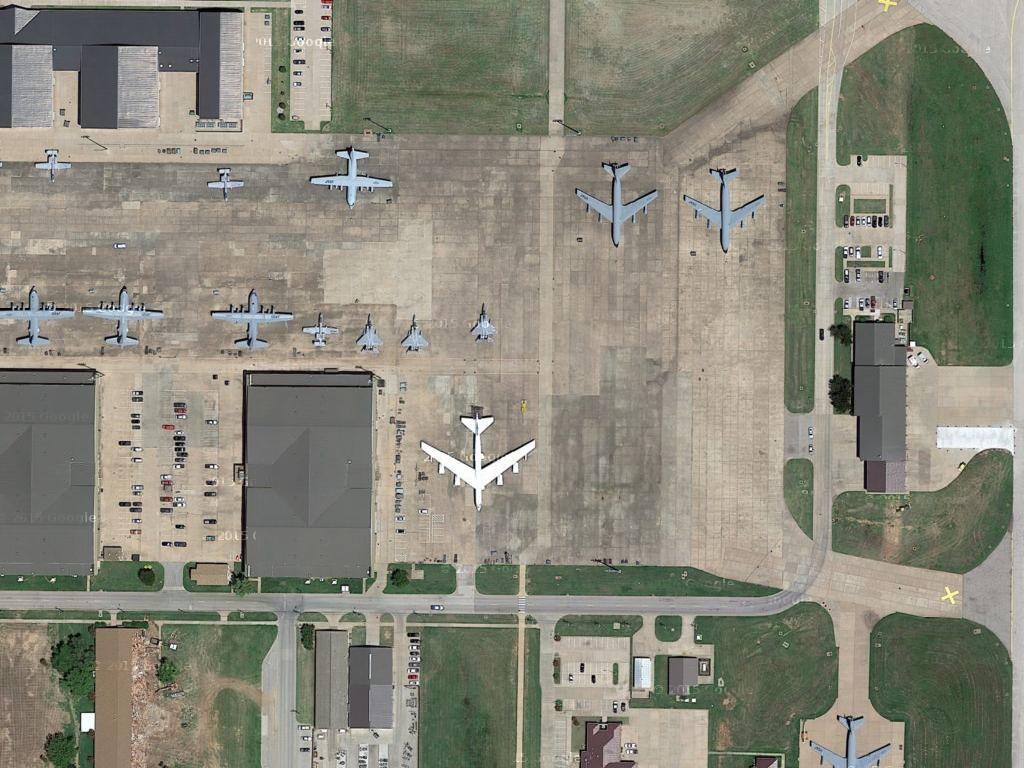A-10: (201, 166, 251, 202), (297, 314, 342, 350), (31, 147, 76, 182)
B-52: (416, 401, 539, 514)
C-130: (307, 142, 399, 209), (79, 282, 167, 349), (208, 289, 300, 350), (1, 285, 81, 348)
F-15: (352, 311, 387, 355), (468, 299, 501, 344), (399, 312, 430, 354)
KC-135: (572, 157, 666, 253), (682, 166, 769, 257)
